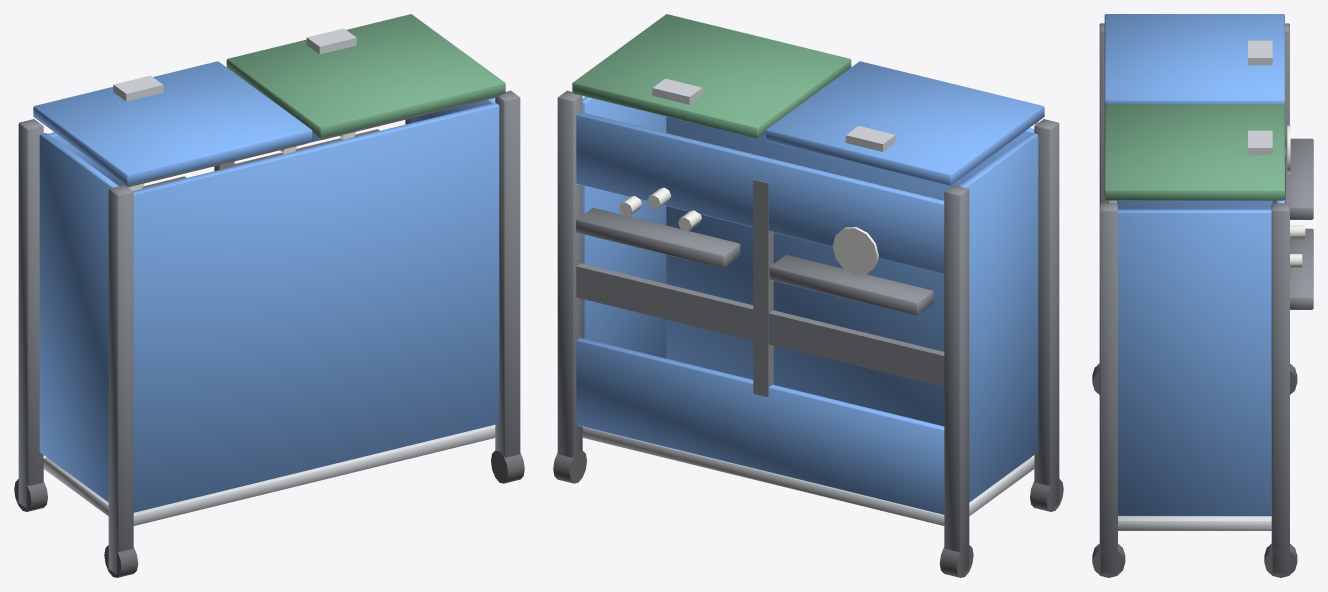
File: RecyclingBin_Dual.fbx
3 renders of one model, left to right at view 1: azimuth 30°, elevation 25°; view 2: azimuth 150°, elevation 25°; view 3: azimuth 270°, elevation 25°, orthographic. The views are drawn at different scales.
Parts seen in each view (by area): view 1: LOD0; view 2: LOD0; view 3: LOD0.
Part boxes in pixels (x1,y1,x2,y2): LOD0: (14, 14, 524, 577); LOD0: (553, 14, 1063, 577); LOD0: (1092, 14, 1313, 577).
Size of what is drawn, in the model's own units: 108 by 105 by 54.
